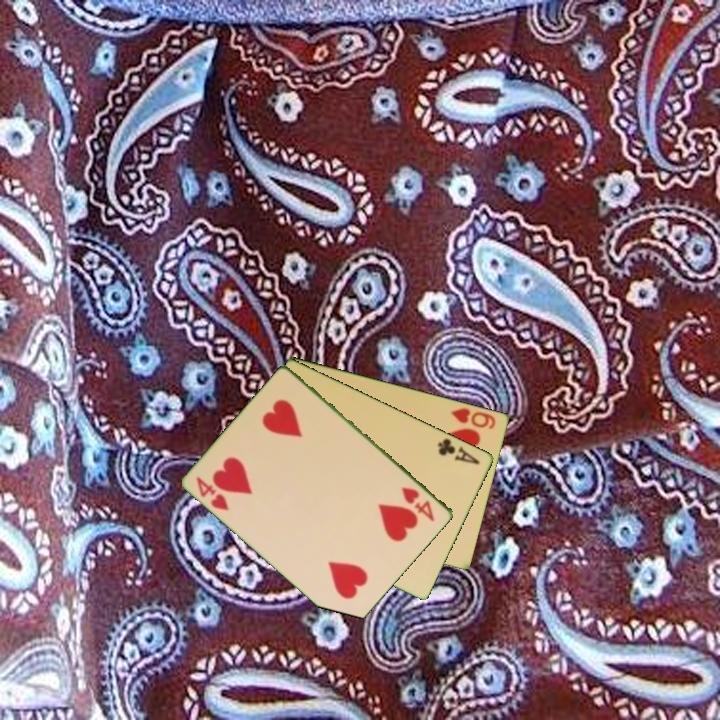4h: (398, 483, 438, 524), (193, 473, 232, 514)
6h: (447, 404, 499, 432)
Ac: (434, 434, 483, 467)
